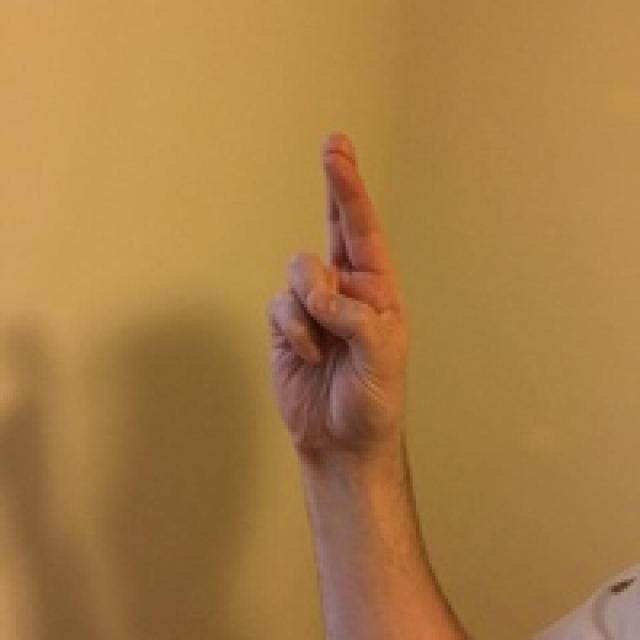R: (179, 107, 454, 486)
